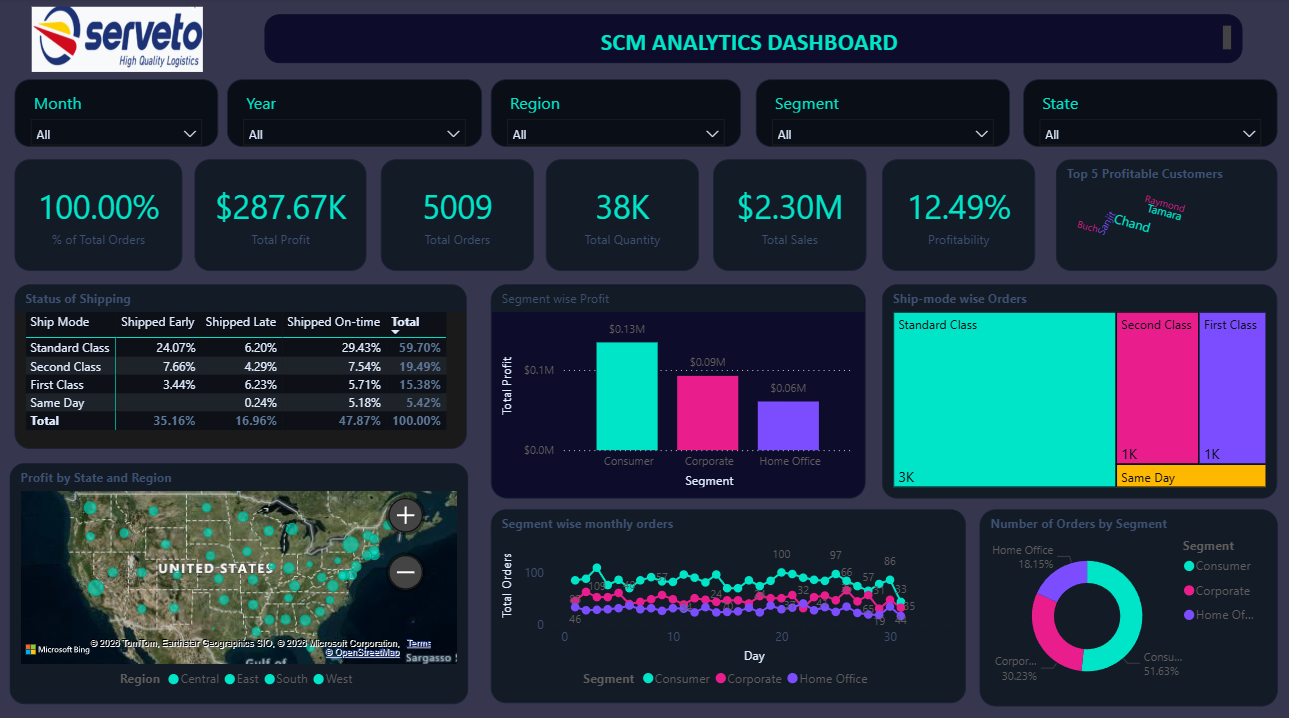

This screenshot's page, from the dashboard's own definition file:
{"tool":"powerbi","page":{"name":"Page 1","canvas":[1280,720],"ordinal":0},"visuals":[{"type":"image","box":[32,8,192,64],"z":1000},{"type":"textbox","box":[272,16,960,48],"z":2000},{"type":"slicer","fields":{"Values":["Orders_merged.Month"]},"box":[27.4,79.4,200,66.4],"z":3000},{"type":"slicer","fields":{"Values":["Orders_merged.Segment"]},"box":[754.6,79.4,249.6,66.4],"z":4000},{"type":"slicer","fields":{"Values":["Orders_merged.Region"]},"box":[494.9,79.4,245.3,66.4],"z":5000},{"type":"slicer","fields":{"Values":["Orders_merged.Year"]},"box":[235.2,79.4,250,66.4],"z":6000},{"type":"slicer","fields":{"Values":["Orders_merged.State"]},"box":[1017.1,79.4,249.6,66.4],"z":7000},{"type":"card","fields":{"Values":["_Measures KPI.% of Total Orders"]},"box":[27.4,158.7,164.5,109.6],"z":8000},{"type":"card","fields":{"Values":["_Measures KPI.Total Orders"]},"box":[386,158.7,150,109.6],"z":9000},{"type":"card","fields":{"Values":["_Measures KPI.Total Profit"]},"box":[203.4,158.7,168.8,109.6],"z":10000},{"type":"card","fields":{"Values":["_Measures KPI.Total Sales"]},"box":[712.7,158.7,150,109.6],"z":11000},{"type":"card","fields":{"Values":["_Measures KPI.Total Quantity"]},"box":[548,158.7,150,109.6],"z":12000},{"type":"card","fields":{"Values":["_Measures KPI.Profitability"]},"box":[878.6,158.7,150,109.6],"z":13000},{"type":"pivotTable","title":"Status of Shipping","fields":{"Rows":["Orders_merged.Ship Mode"],"Columns":["Orders_merged.Shipping Status"],"Values":["_Measures KPI.% of Total Orders"]},"box":[27.4,281,444.4,161.6],"z":14000},{"type":"donutChart","title":"Number of Orders by Segment","fields":{"Category":["Orders_merged.Segment"],"Y":["_Measures KPI.Total Orders"]},"box":[973.9,502.1,292.9,193.3],"z":15000},{"type":"treemap","title":"Ship-mode wise Orders","fields":{"Values":["_Measures KPI.Total Orders"],"Group":["Orders_merged.Ship Mode"]},"box":[879,281,388,210],"z":16000},{"type":"clusteredColumnChart","title":"Segment wise Profit","fields":{"Category":["Orders_merged.Segment"],"Y":["_Measures KPI.Total Profit"]},"box":[494.9,281.3,367.9,210.6],"z":17000},{"type":"lineChart","title":"Segment wise monthly orders","fields":{"Category":["Orders_merged.Day"],"Y":["_Measures KPI.Total Orders"],"Series":["Orders_merged.Segment"]},"box":[494.9,502.1,466,190.4],"z":18000},{"type":"map","title":"Profit by State and Region","fields":{"Category":["Orders_merged.State"],"Size":["_Measures KPI.Total Profit"],"Series":["Orders_merged.Region"]},"box":[21.6,455.9,450.1,236.6],"z":19000},{"type":"WordCloud1447959067750","title":"Top 5 Profitable Customers","fields":{"Category":["Orders_merged.Customer Name"],"Values":["_Measures KPI.Total Profit"]},"box":[1048.9,158.7,217.9,109.6],"z":20000}]}

Visuals, with their boxes in screenshot pixels (x1, y1, x2, y2), scaled from the page's 1280x720 canvas onto the 1289x718 screenshot:
image: rect(32, 8, 226, 72)
textbox: rect(274, 16, 1241, 64)
slicer - Orders_merged.Month: rect(28, 79, 229, 145)
slicer - Orders_merged.Segment: rect(760, 79, 1011, 145)
slicer - Orders_merged.Region: rect(498, 79, 745, 145)
slicer - Orders_merged.Year: rect(237, 79, 489, 145)
slicer - Orders_merged.State: rect(1024, 79, 1276, 145)
card - _Measures KPI.% of Total Orders: rect(28, 158, 193, 268)
card - _Measures KPI.Total Orders: rect(389, 158, 540, 268)
card - _Measures KPI.Total Profit: rect(205, 158, 375, 268)
card - _Measures KPI.Total Sales: rect(718, 158, 869, 268)
card - _Measures KPI.Total Quantity: rect(552, 158, 703, 268)
card - _Measures KPI.Profitability: rect(885, 158, 1036, 268)
"Status of Shipping" pivotTable: rect(28, 280, 475, 441)
"Number of Orders by Segment" donutChart: rect(981, 501, 1276, 693)
"Ship-mode wise Orders" treemap: rect(885, 280, 1276, 490)
"Segment wise Profit" clusteredColumnChart: rect(498, 281, 869, 491)
"Segment wise monthly orders" lineChart: rect(498, 501, 968, 691)
"Profit by State and Region" map: rect(22, 455, 475, 691)
"Top 5 Profitable Customers" WordCloud1447959067750: rect(1056, 158, 1276, 268)
